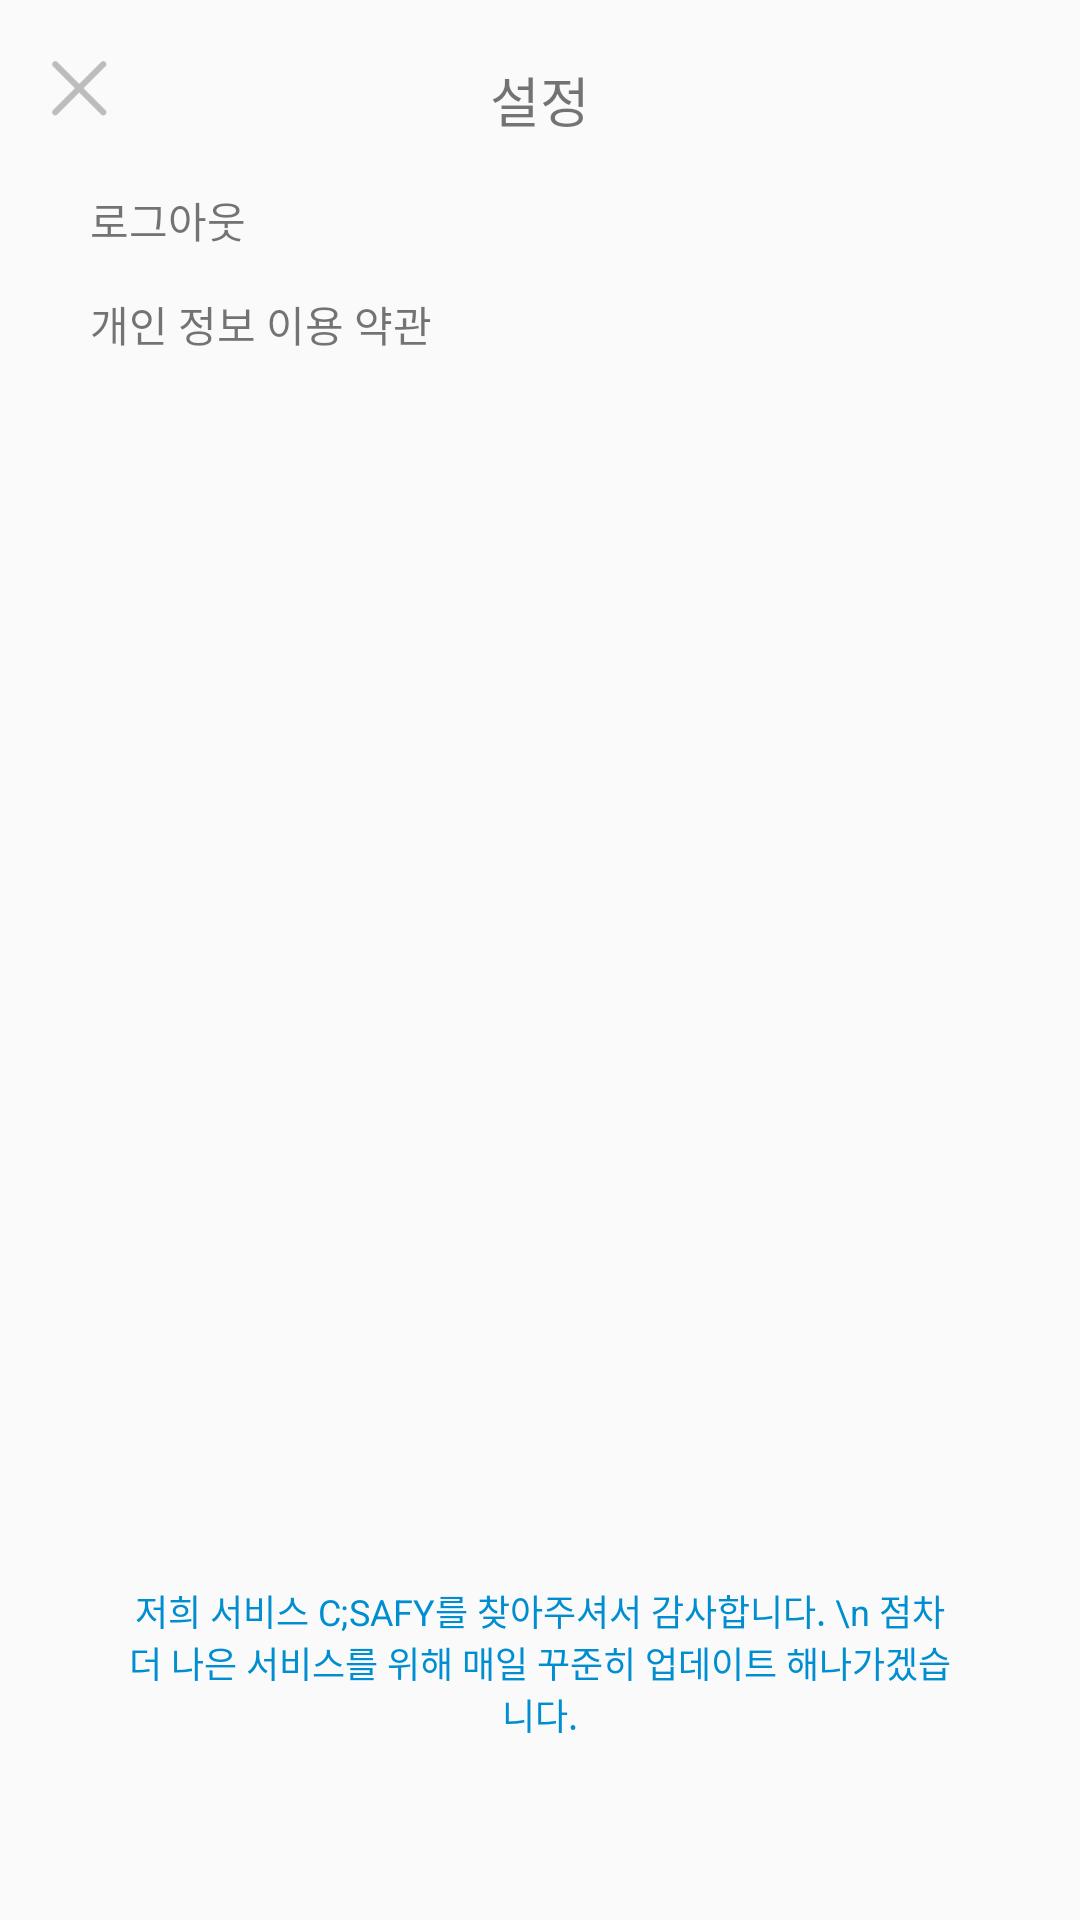

Icons on this 1080w x 1920h Android screen, each with the point to tap as [x,y]:
join close: [79,88]
